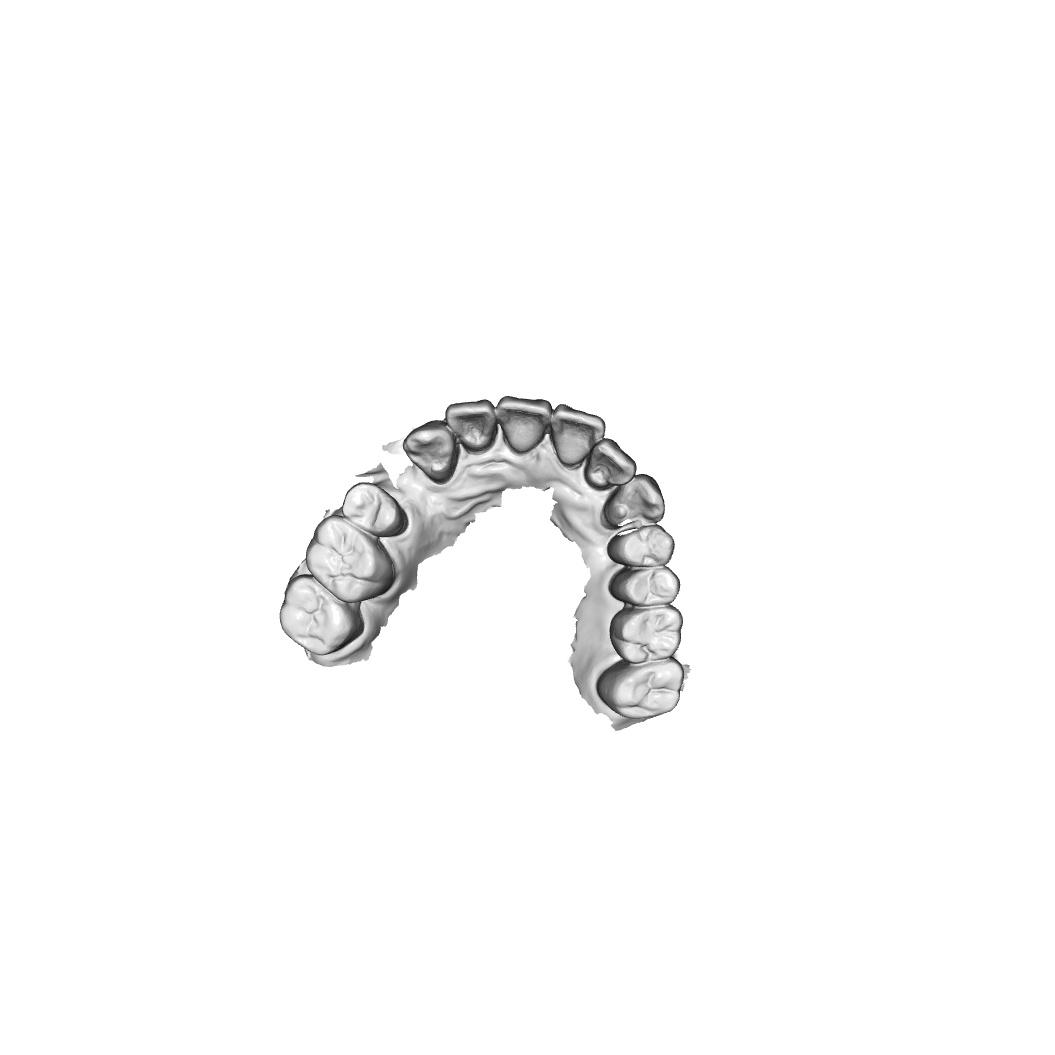canine: (402, 420, 460, 485), (602, 473, 666, 529)
incisor: (551, 403, 607, 469), (495, 395, 552, 456), (444, 398, 498, 455), (584, 438, 637, 492)
molar: (304, 514, 396, 604), (278, 573, 365, 656), (596, 656, 685, 720), (609, 605, 684, 664)
premolar: (341, 481, 409, 538), (606, 523, 676, 569), (609, 565, 681, 607)
